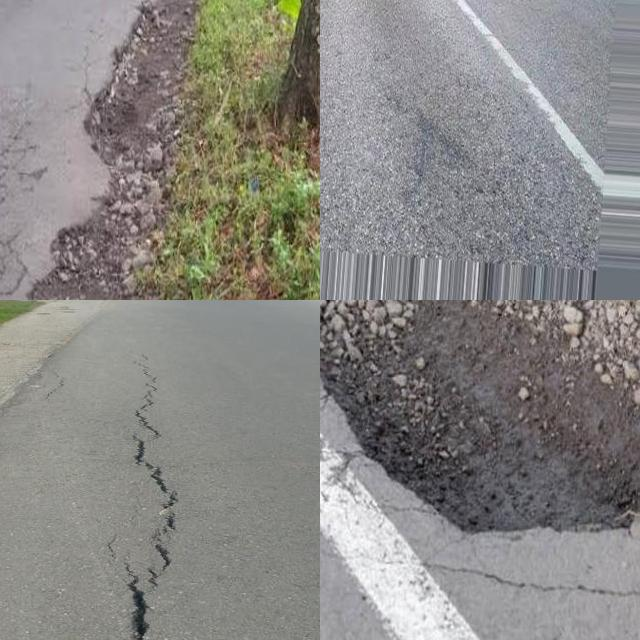Memanjang: (117, 356, 187, 640)
Pinggir: (320, 300, 640, 546), (14, 0, 181, 300)
